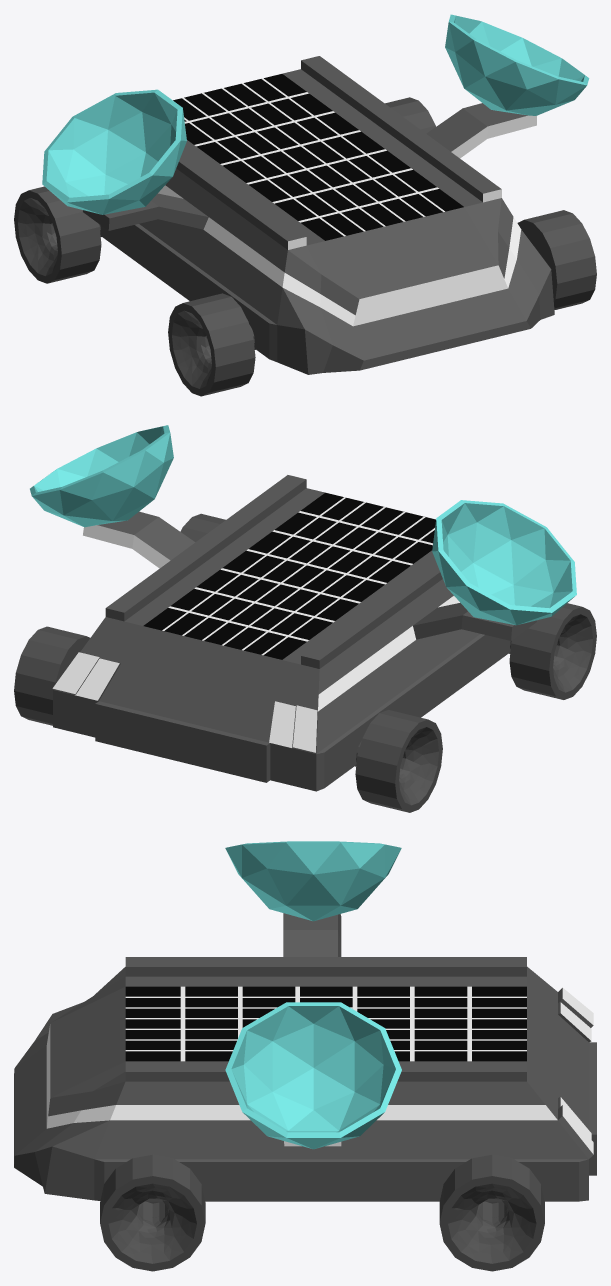
The model's file is rover1fbx.fbx.
3 views of the same model, one above another, from view 1: azimuth 30°, elevation 25°; view 2: azimuth 150°, elevation 25°; view 3: azimuth 270°, elevation 25° (orthographic). The views are drawn at different scales.
Parts seen in each view (by area): view 1: Cube.002, Cylinder.001, Icosphere.001, Icosphere; view 2: Cube.002, Cylinder.001, Icosphere.001, Icosphere; view 3: Cube.002, Cylinder.001, Icosphere, Icosphere.001.
Boxes of the visible parts, left/top/right/bottom form: Cube.002: left=83, top=56, right=554, bottom=374; Cylinder.001: left=14, top=97, right=596, bottom=396; Icosphere.001: left=42, top=89, right=186, bottom=214; Icosphere: left=445, top=14, right=589, bottom=115; Cube.002: left=52, top=475, right=536, bottom=791; Cylinder.001: left=14, top=513, right=596, bottom=812; Icosphere.001: left=432, top=500, right=576, bottom=625; Icosphere: left=30, top=425, right=173, bottom=527; Cube.002: left=14, top=913, right=596, bottom=1201; Cylinder.001: left=100, top=1154, right=544, bottom=1271; Icosphere: left=225, top=1002, right=401, bottom=1149; Icosphere.001: left=225, top=841, right=401, bottom=921.
Size of the model in its own units: 752 by 314 by 660.
